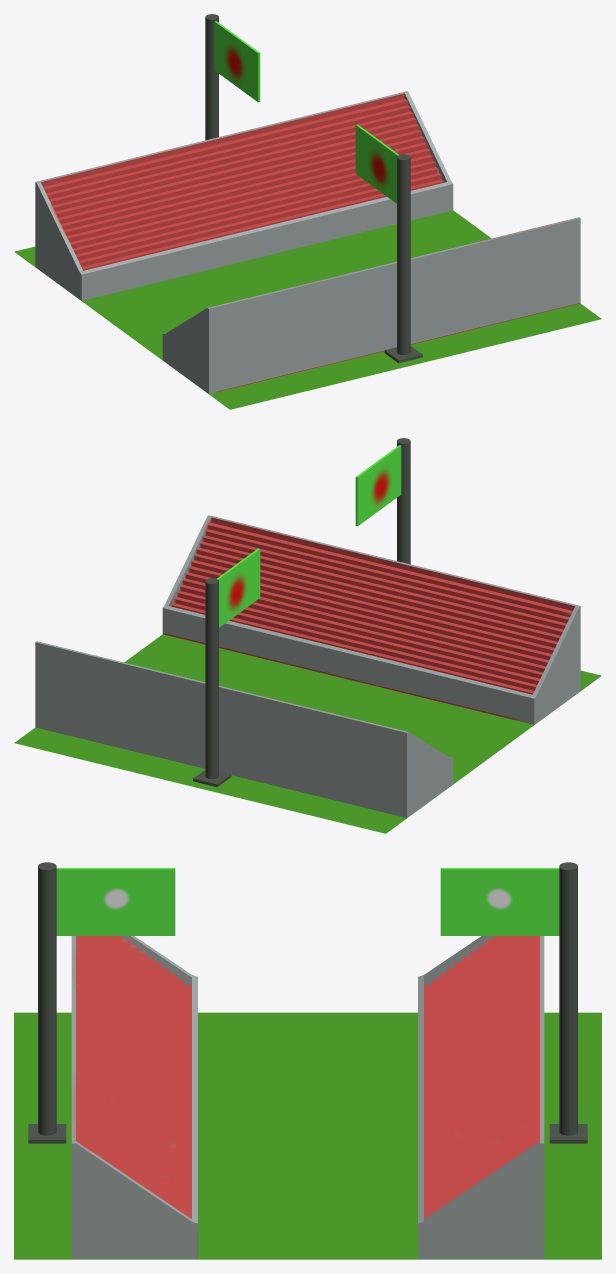
File: stands.fbx
3 views of the same model, one above another, from view 1: azimuth 30°, elevation 25°; view 2: azimuth 150°, elevation 25°; view 3: azimuth 270°, elevation 25° (orthographic). The views are drawn at different scales.
Visible parts, largest first — view 1: Cube.001, Plane, Cylinder, Cube.003; view 2: Cube.001, Plane, Cylinder, Cube.003; view 3: Cube.001, Plane, Cube.003, Cylinder.
Boxes of the visible parts, <box> form: Cube.001: <box>35,91,580,393</box>; Plane: <box>14,210,601,409</box>; Cylinder: <box>205,14,422,363</box>; Cube.003: <box>214,21,398,203</box>; Cube.001: <box>35,515,580,817</box>; Plane: <box>14,634,601,833</box>; Cylinder: <box>193,438,410,787</box>; Cube.003: <box>217,445,401,627</box>; Cube.001: <box>71,936,544,1259</box>; Plane: <box>14,1012,601,1259</box>; Cube.003: <box>56,868,559,935</box>; Cylinder: <box>28,862,587,1143</box>.
Size of the model in its own units: 1591 by 811 by 1601.
Materials: 4 (4 with a texture image).
